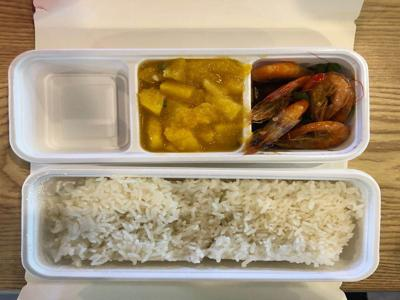jrtd: (135, 58, 249, 156)
rice: (39, 175, 372, 272)
